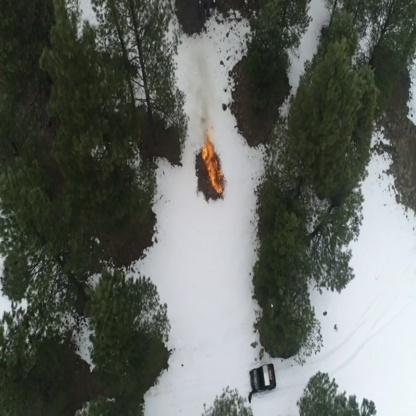Fire: (200, 131, 225, 196)
